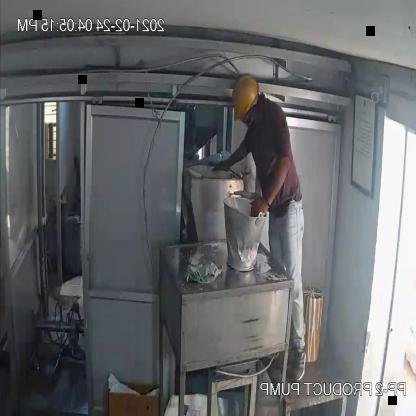helmet: (225, 70, 262, 124)
